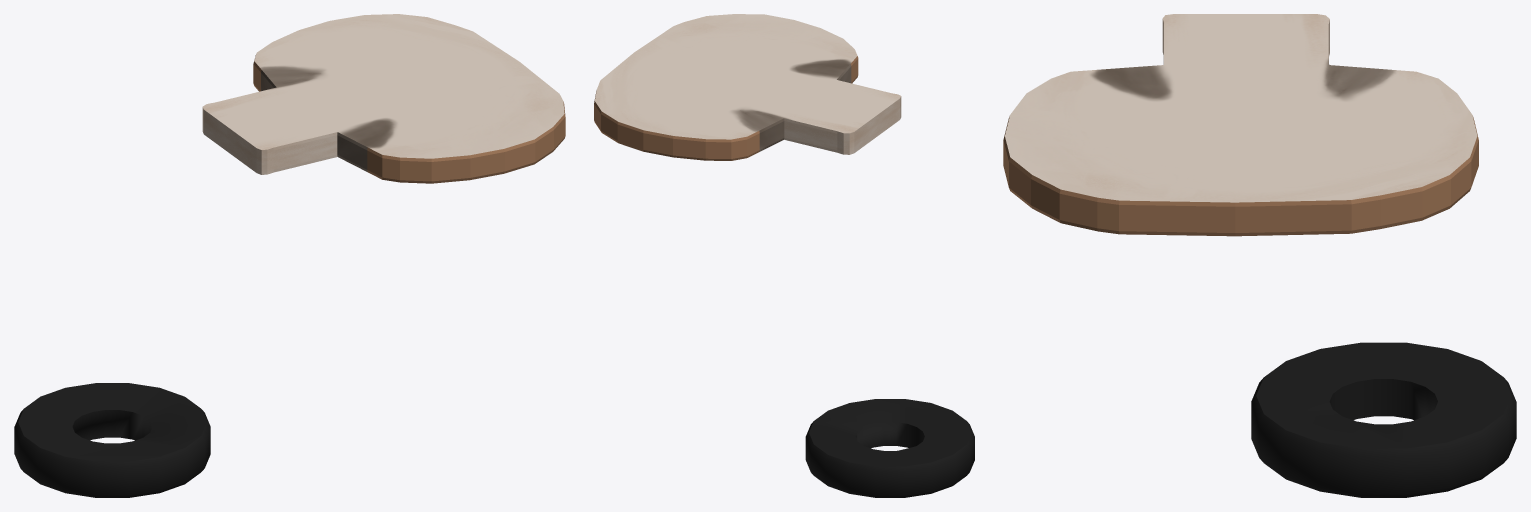
Rendered from toppings+2.fbx.
The picture shows the model from 3 angles, left to right: view 1: azimuth 30°, elevation 25°; view 2: azimuth 150°, elevation 25°; view 3: azimuth 270°, elevation 25°; orthographic projection. The views are drawn at different scales.
Parts seen in each view (by area): view 1: Cube, Cylinder.023; view 2: Cube, Cylinder.023; view 3: Cube, Cylinder.023.
Part boxes in pixels (<box>): Cube: <box>202,14,565,183</box>; Cylinder.023: <box>14,383,210,497</box>; Cube: <box>594,14,901,160</box>; Cylinder.023: <box>805,399,974,497</box>; Cube: <box>1003,14,1478,236</box>; Cylinder.023: <box>1251,342,1516,497</box>.
Bounding box in the file's own units: 237 × 182 × 179.
